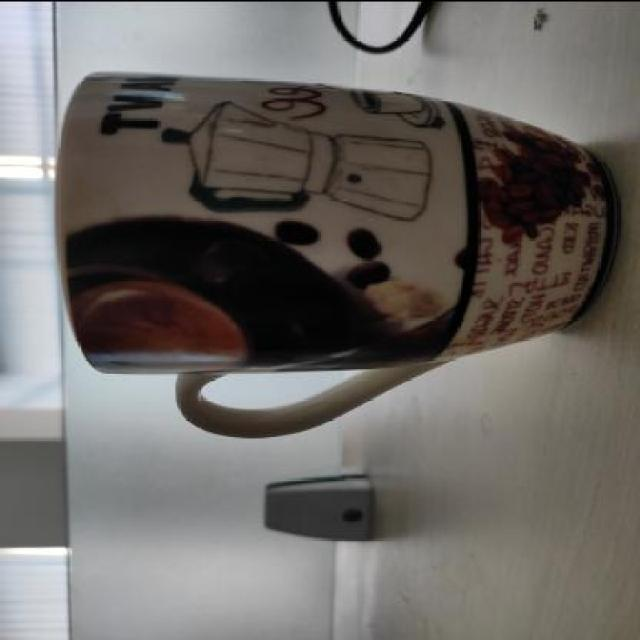cup: (63, 61, 614, 438)
